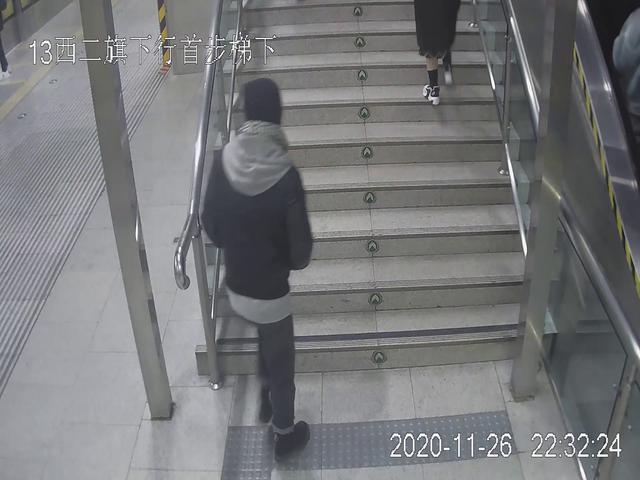person: (196, 70, 323, 471)
